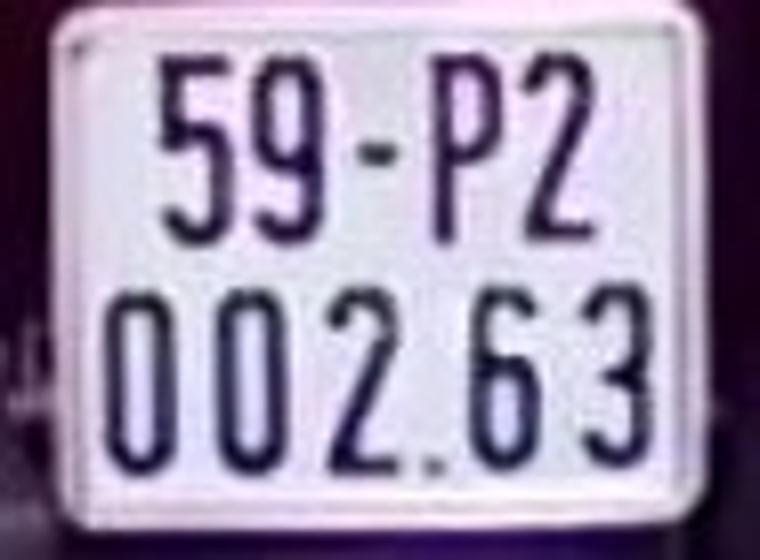-: (349, 139, 393, 167)
.: (424, 458, 443, 476)
0: (213, 283, 291, 471), (103, 291, 178, 475)
2: (519, 44, 595, 243), (327, 283, 397, 476)
3: (580, 282, 650, 464)
5: (155, 51, 232, 250)
6: (469, 281, 540, 475)
9: (247, 51, 323, 244)
P: (427, 51, 501, 247)
